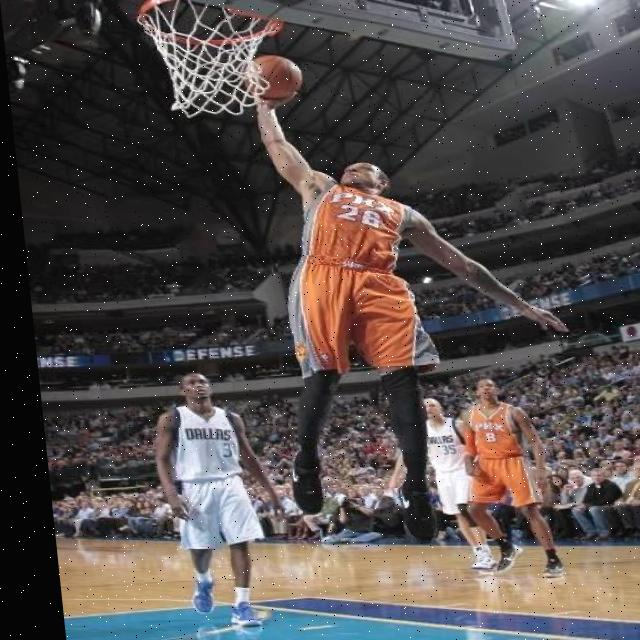basketball: (248, 58, 304, 102)
hoop: (133, 0, 281, 110)
